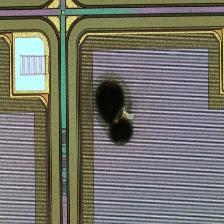PARTICLE: (88, 70, 139, 149)
